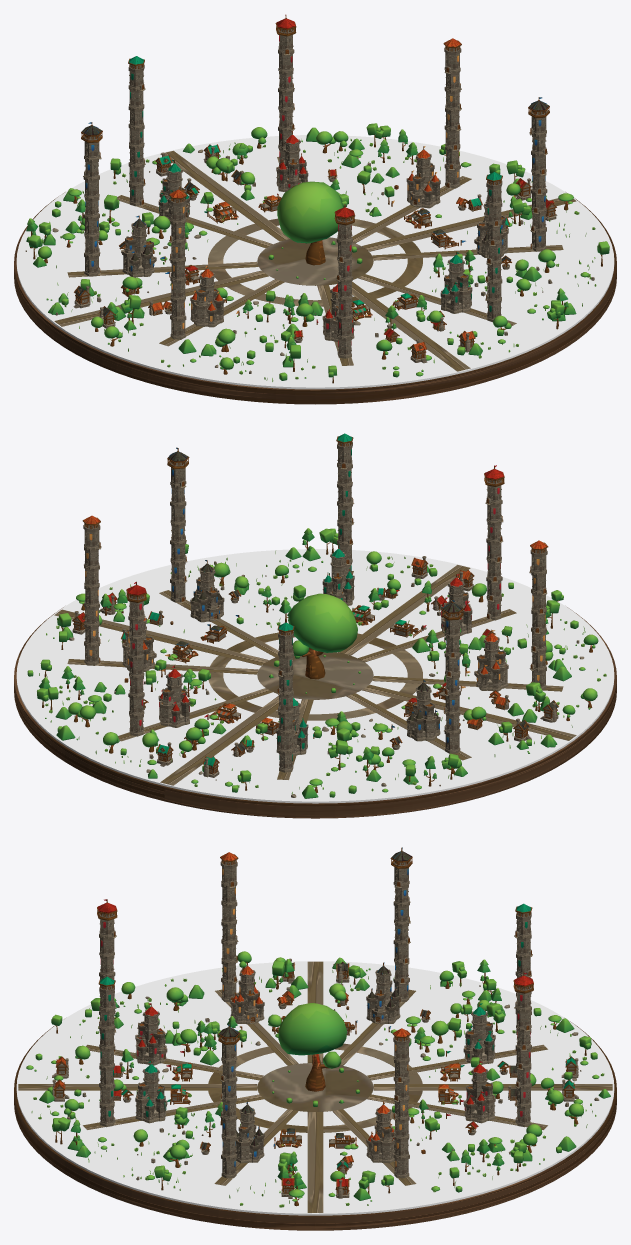
The model's file is praca-kaykit.glb.
3 renders of one model, top to bottom at view 1: azimuth 30°, elevation 25°; view 2: azimuth 150°, elevation 25°; view 3: azimuth 270°, elevation 25°, orthographic.
Parts seen in each view (by area): view 1: ilha, borda, Tree_1_A_Color1.017, largo, anel, Cube.011, building_castle_yellow.003, building_castle_yellow.004, building_castle_blue.004, Cube.009, building_castle_green.003, building_castle_red.004 (+11 smaller); view 2: ilha, borda, Tree_1_A_Color1.017, largo, anel, Cube.011, Cube.009, building_castle_yellow.003, building_castle_red.004, building_castle_blue.003, building_castle_blue.004, Cube.008 (+11 smaller); view 3: ilha, borda, largo, Tree_1_A_Color1.017, anel, Cube.008, building_castle_blue.004, building_castle_green.003, building_castle_red.004, building_castle_red.003, building_castle_yellow.003, building_castle_green.004 (+13 smaller).
Part boxes in pixels (x1,y1,x2,y2): ilha: (16, 135, 614, 389); borda: (14, 192, 616, 404); Tree_1_A_Color1.017: (277, 181, 343, 265); largo: (257, 237, 373, 285); anel: (208, 218, 422, 306); Cube.011: (160, 150, 289, 241); building_castle_yellow.003: (190, 265, 224, 327); building_castle_yellow.004: (406, 146, 440, 208); building_castle_blue.004: (122, 215, 156, 277); Cube.009: (352, 281, 470, 371); building_castle_green.003: (440, 251, 472, 313); building_castle_red.004: (276, 131, 308, 191); ilha: (16, 549, 614, 803); borda: (14, 607, 616, 818); Tree_1_A_Color1.017: (288, 593, 357, 679); largo: (257, 650, 373, 699); anel: (208, 632, 422, 720); Cube.011: (160, 695, 278, 785); Cube.009: (338, 564, 470, 655); building_castle_yellow.003: (474, 629, 508, 691); building_castle_red.004: (158, 665, 190, 727); building_castle_blue.003: (190, 560, 224, 622); building_castle_blue.004: (406, 679, 440, 741); Cube.008: (54, 609, 268, 665); ilha: (16, 961, 614, 1215); borda: (14, 1021, 616, 1230); largo: (257, 1063, 373, 1111); Tree_1_A_Color1.017: (278, 1003, 346, 1091); anel: (208, 1043, 422, 1132); Cube.008: (307, 1112, 323, 1212); building_castle_blue.004: (366, 962, 400, 1024); building_castle_green.003: (135, 1060, 167, 1123); building_castle_red.004: (463, 1060, 495, 1123); building_castle_red.003: (135, 1003, 167, 1065); building_castle_yellow.003: (230, 962, 264, 1024); building_castle_green.004: (463, 1003, 495, 1064).
Size of the model in its own units: 353 by 108 by 353.
Materials: 63 (62 with a texture image).
